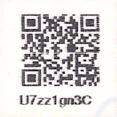QR-CODE: (17, 11, 104, 90)
